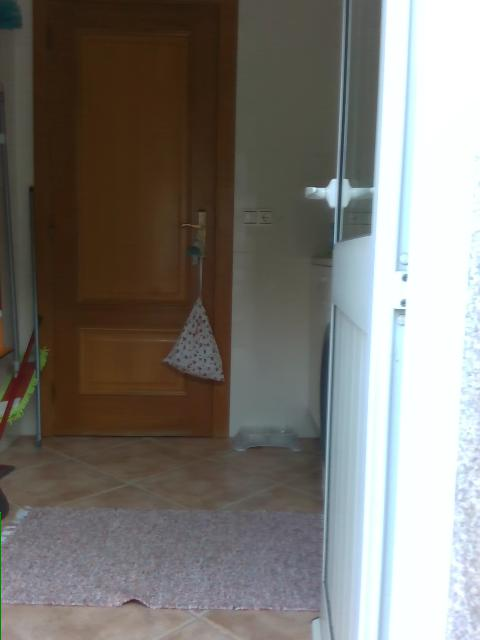door: (32, 1, 238, 438), (303, 2, 403, 640)
